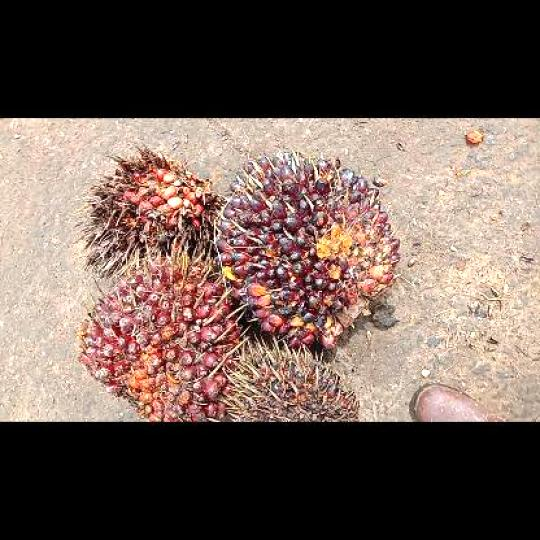kurang masak: (216, 148, 402, 350)
masak: (77, 258, 242, 420)
terlalu masak: (75, 143, 218, 278)
